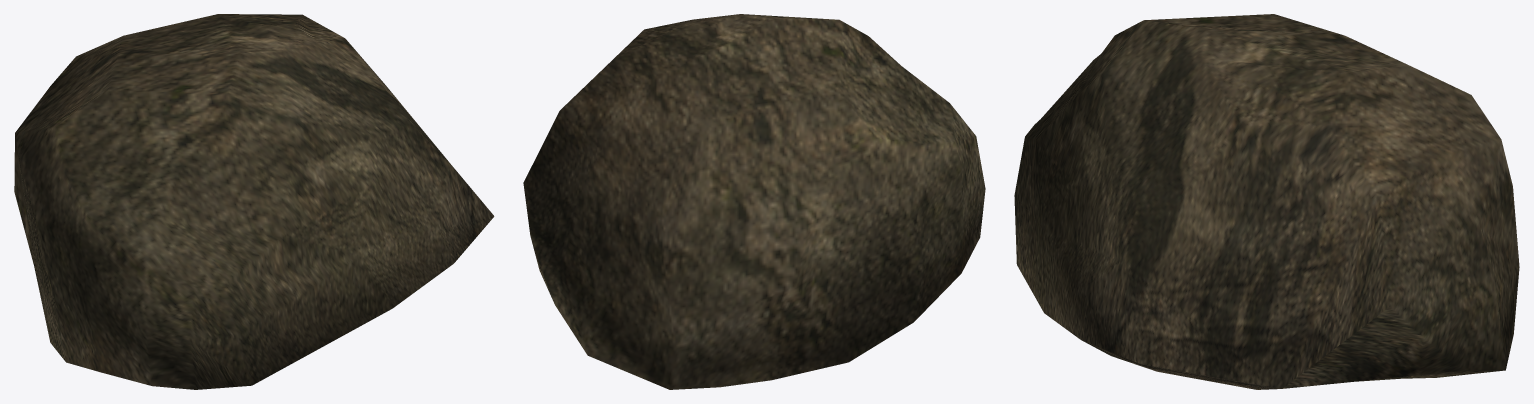
Rendered from LCRG_Rock04.fbx.
3 renders of one model, left to right at view 1: azimuth 30°, elevation 25°; view 2: azimuth 150°, elevation 25°; view 3: azimuth 270°, elevation 25°, orthographic. The views are drawn at different scales.
Parts seen in each view (by area): view 1: LCRG_Rock04; view 2: LCRG_Rock04; view 3: LCRG_Rock04.
Boxes of the visible parts, x1,y1,x2,y2 form: LCRG_Rock04: (14,14,494,389); LCRG_Rock04: (523,14,985,389); LCRG_Rock04: (1014,14,1519,389).
Size of the model in its own units: 2.92 by 2.07 by 2.84.
